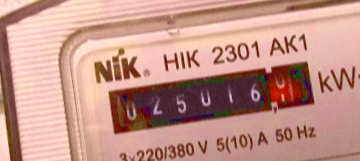0: (199, 83, 216, 108), (124, 98, 140, 122), (273, 68, 288, 89)
1: (224, 79, 238, 105), (279, 91, 288, 103)
2: (150, 91, 166, 116)
5: (175, 91, 189, 113)
6: (248, 78, 264, 105)
screen: (98, 50, 327, 142)
